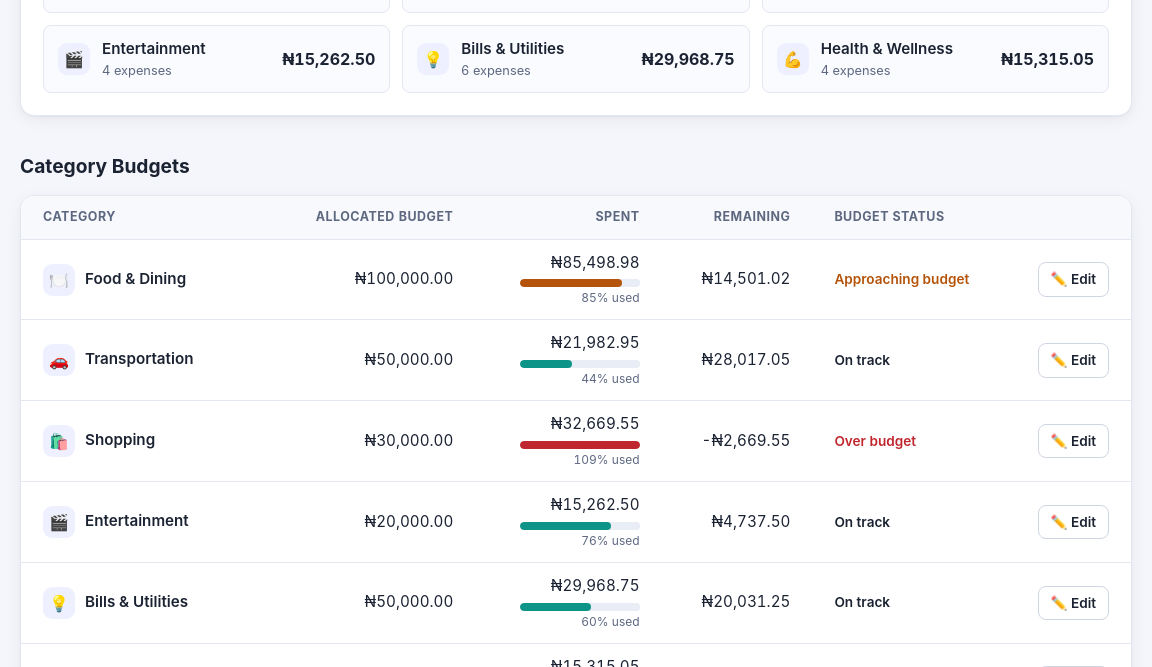
Test: App › category budgets › updates a category budget and saves it
(page scrolled)
Click the button with aria-label "Edit budget for Transportation". click: (1073, 360)
box: [1038,343,1109,378]
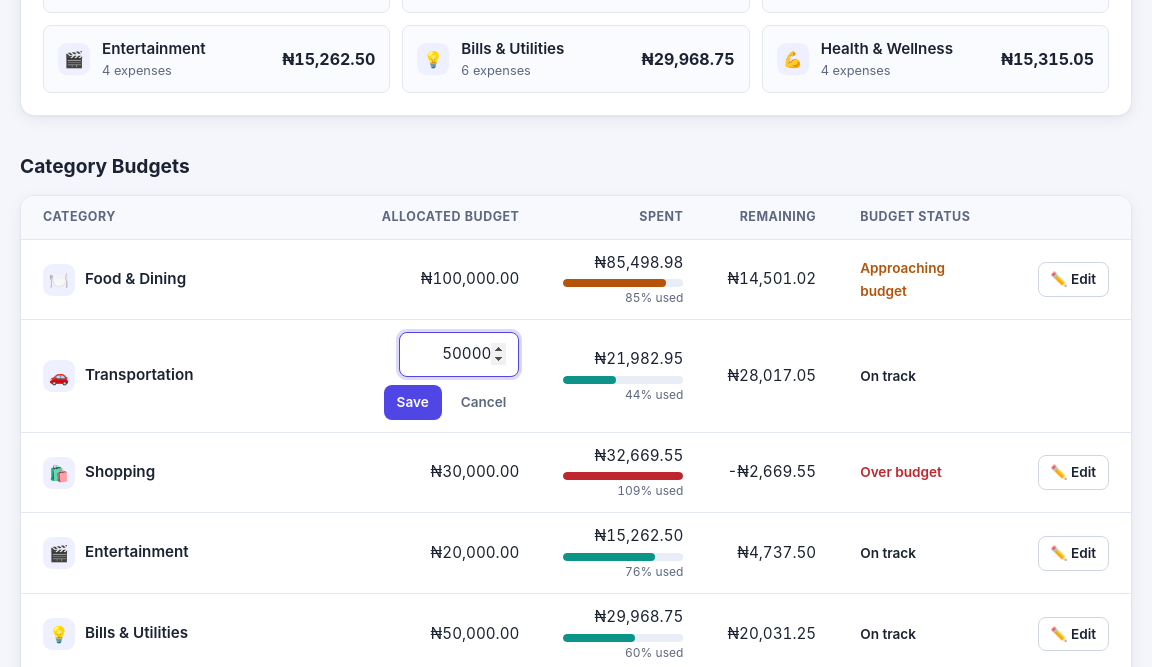
Replace the text in the number field named "Allocated budget for Transportation" with "60000". click: (459, 355)
box: [399,332,519,377]
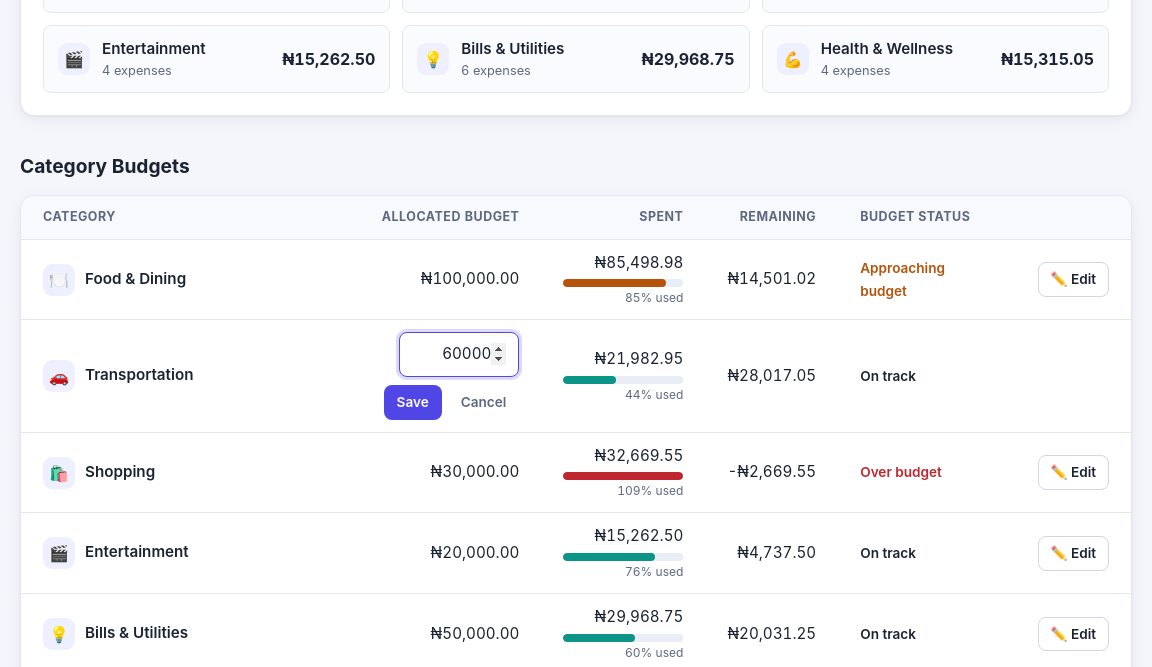
Click the button "Save". click: (413, 402)
box: [384,385,442,420]
(page scrolled)
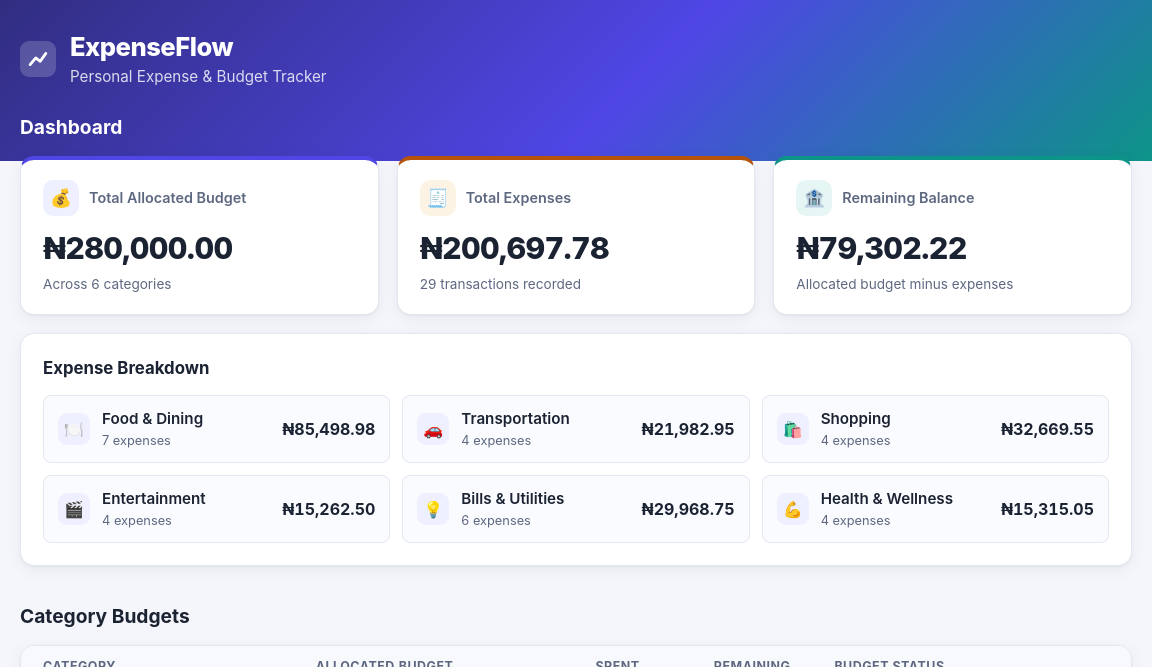
Expected: the text "₦280,000.00" is shown, [43,230,232,266]
